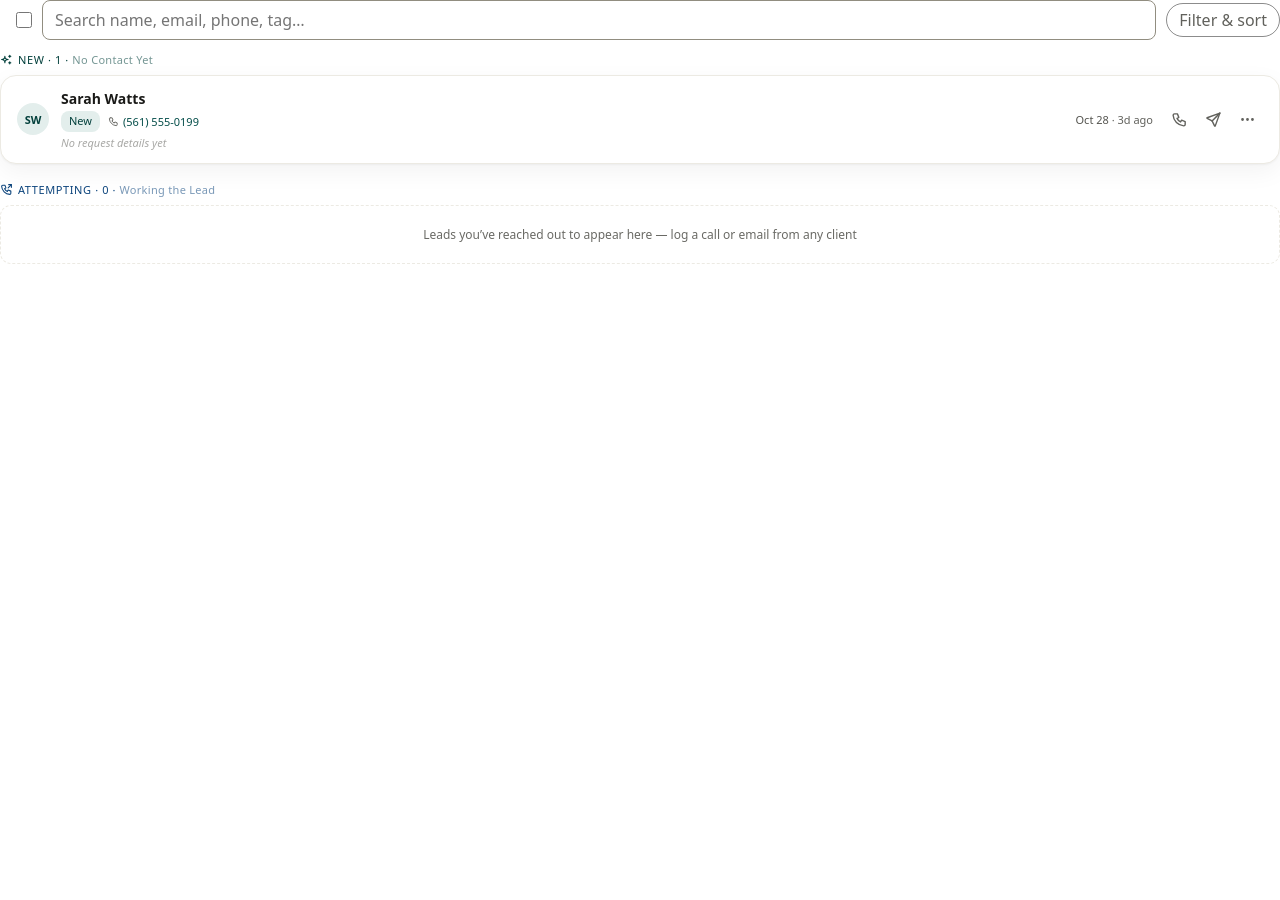
Scenario: the Closed menu item — gating (issue 204) › completing the close removes the row from the Inbox (optimistic closedLostIds)
Expected: the number of elements with class "bee-inbox-row" is 1, 1,76 -> 1279,162
Click the button named "More" at [1247, 119], box 1231,103 -> 1263,135
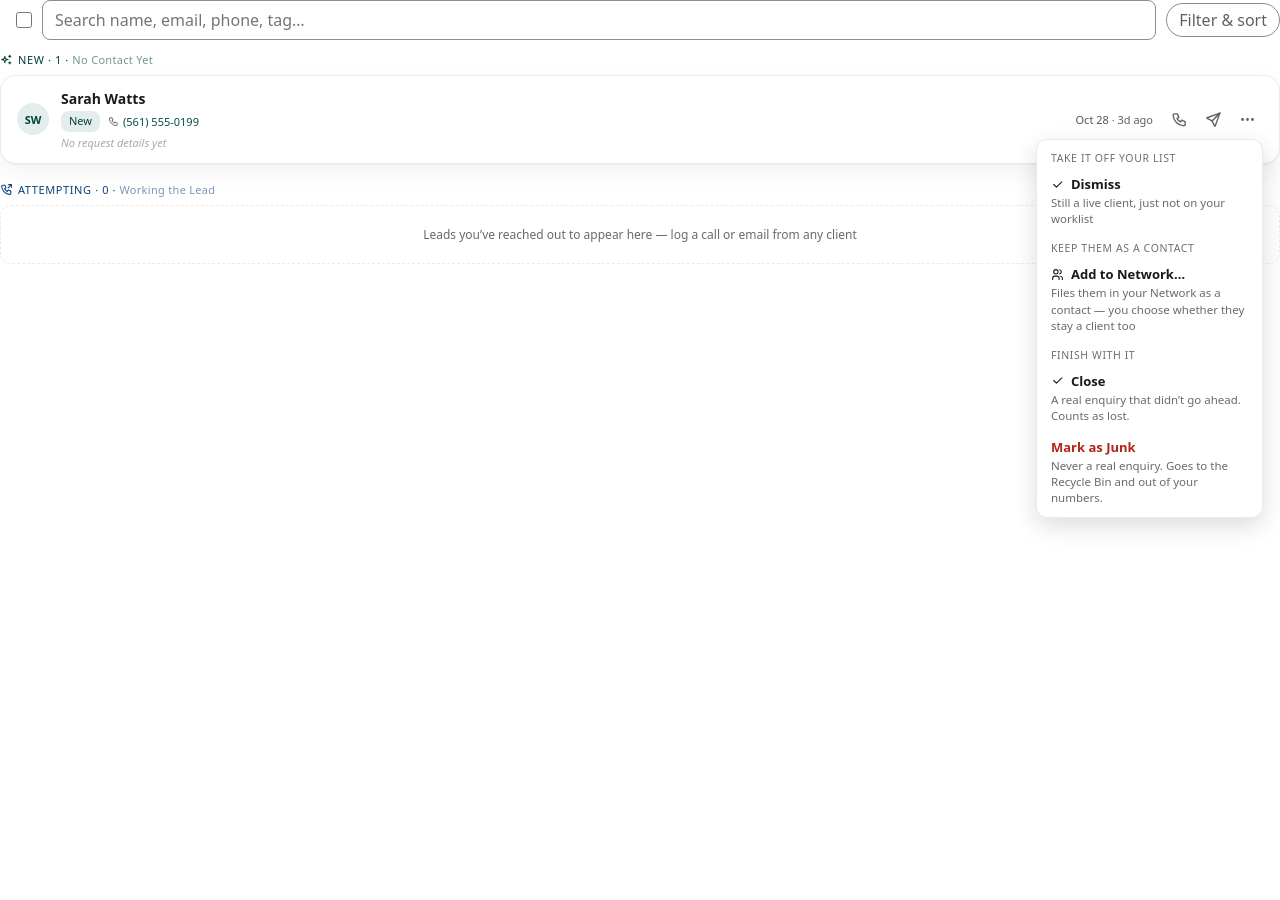
Click the button "Close A real enquiry that didn’t go ahead. Counts as lost." at [1150, 398], box 1041,365 -> 1258,431
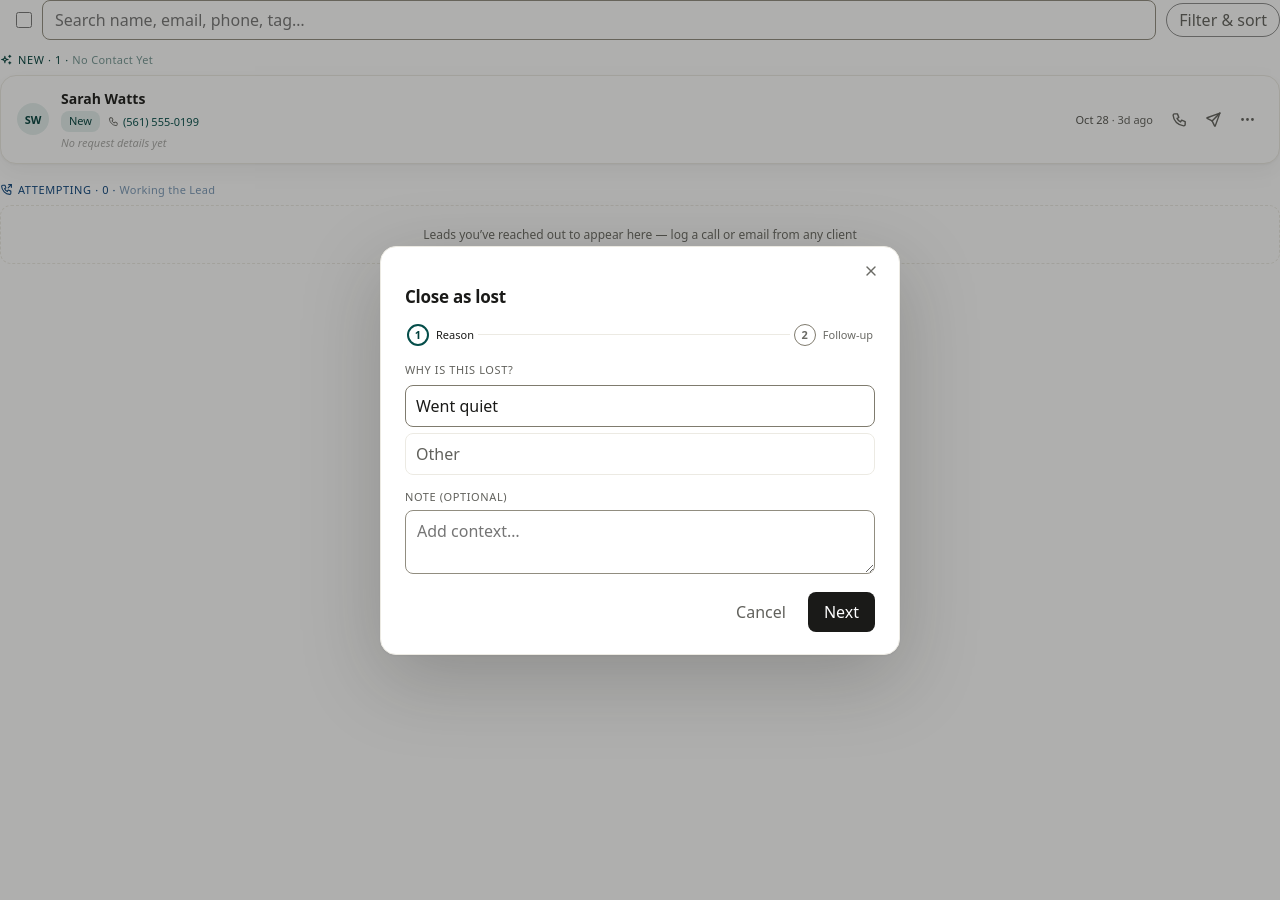
Click the button "Next" at [841, 612], box 808,592 -> 875,632
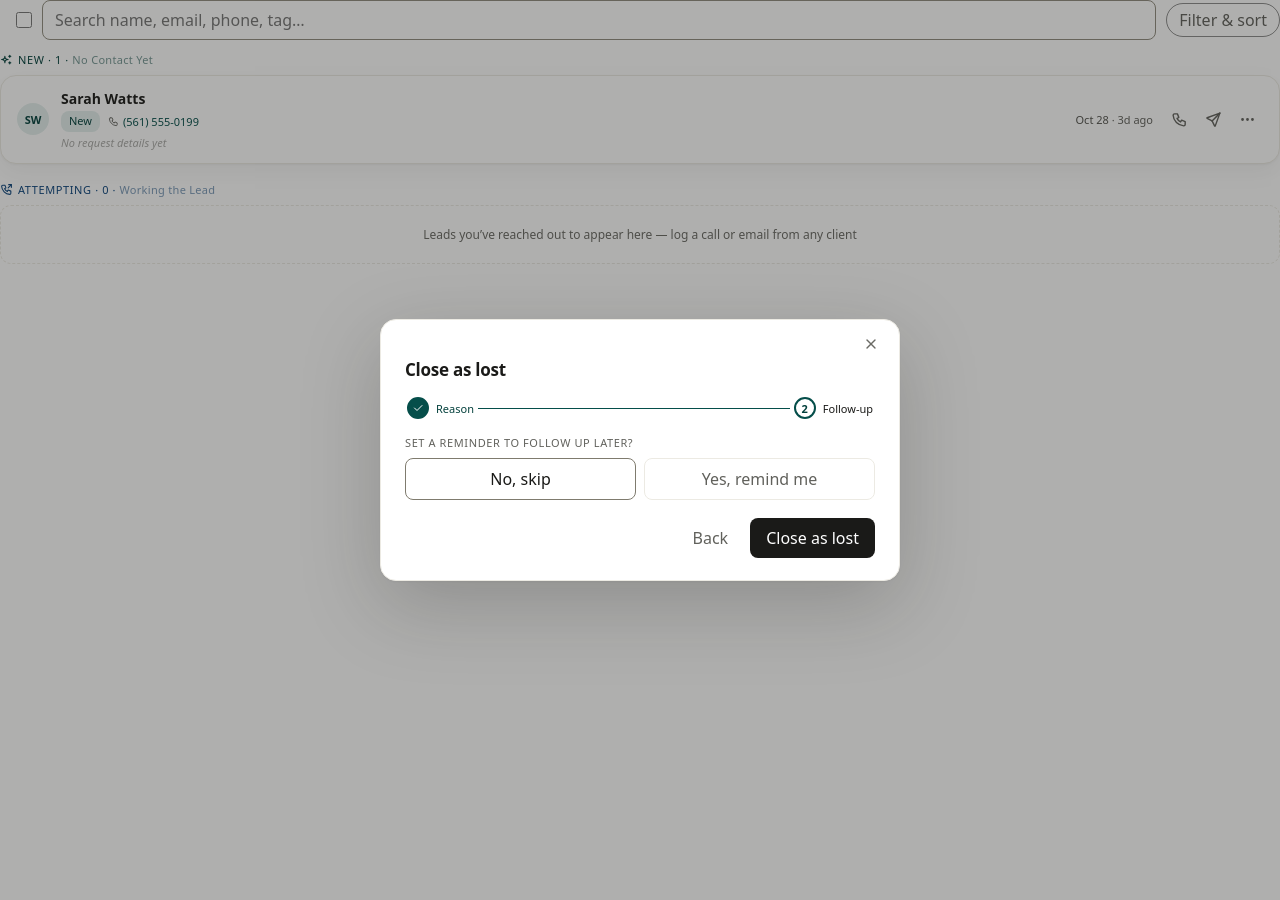
Click the button "Close as lost" at [813, 538], box 750,518 -> 875,558
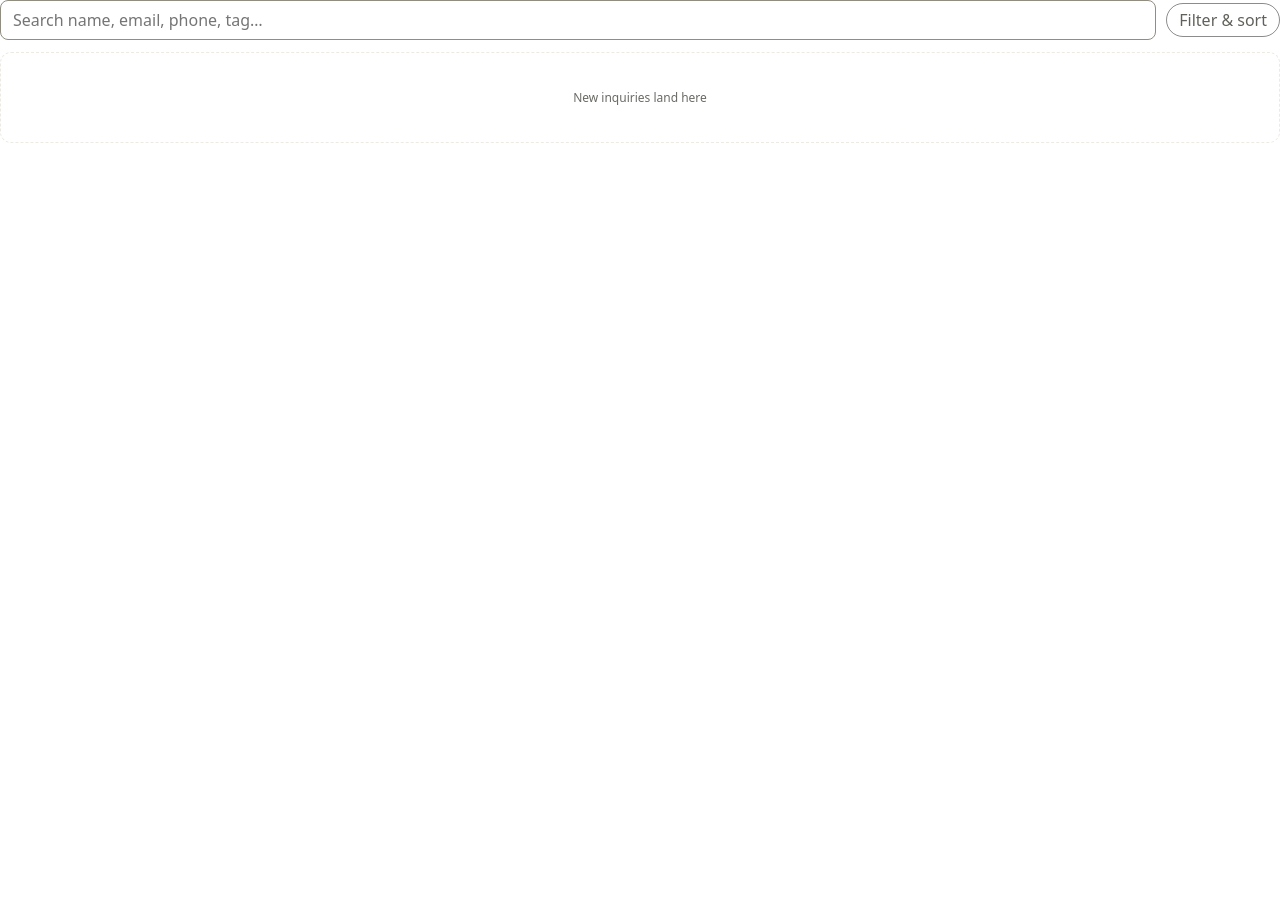
Result: no elements with class "bee-inbox-row" are shown
